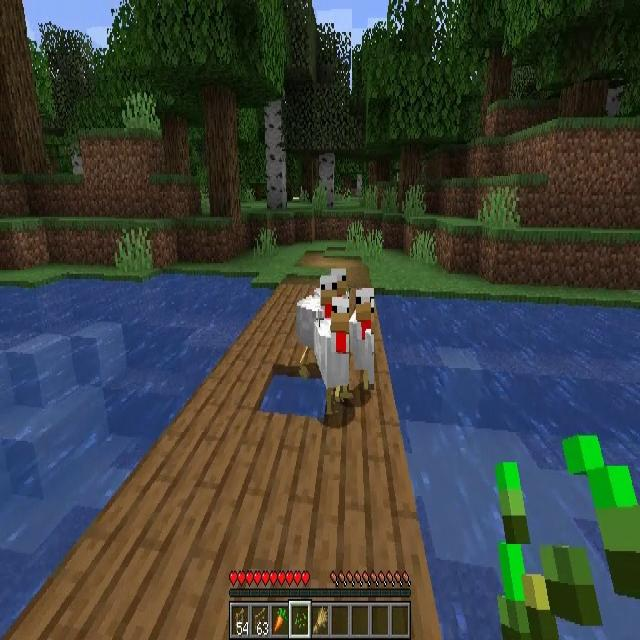duck: (316, 297, 355, 407), (297, 277, 337, 345), (349, 287, 374, 390)
